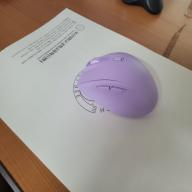mouse: (76, 50, 160, 120)
